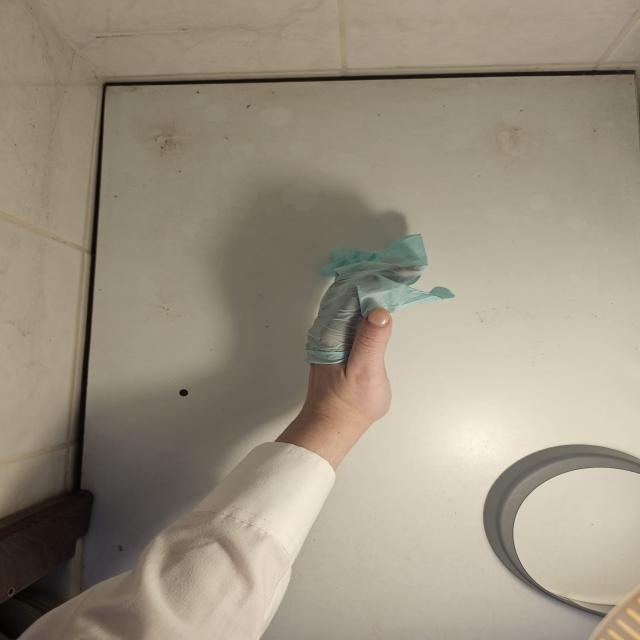glove_partial: (302, 232, 458, 422)
